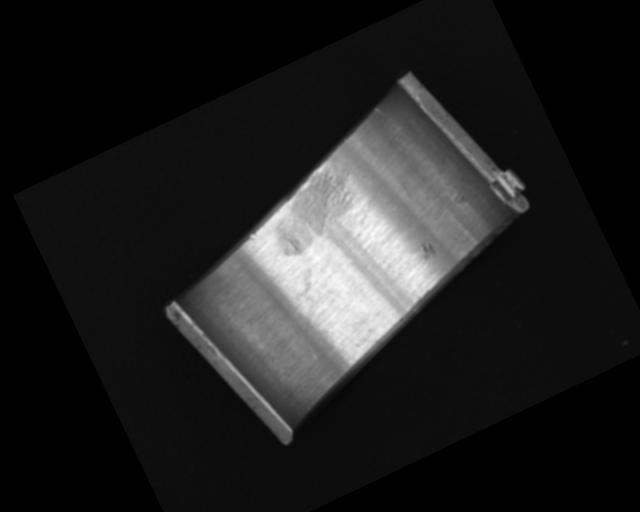blot: (279, 259, 339, 322)
bruise: (416, 239, 438, 262), (245, 231, 258, 243)
nick: (374, 104, 386, 117)
scratch: (256, 156, 375, 262)
